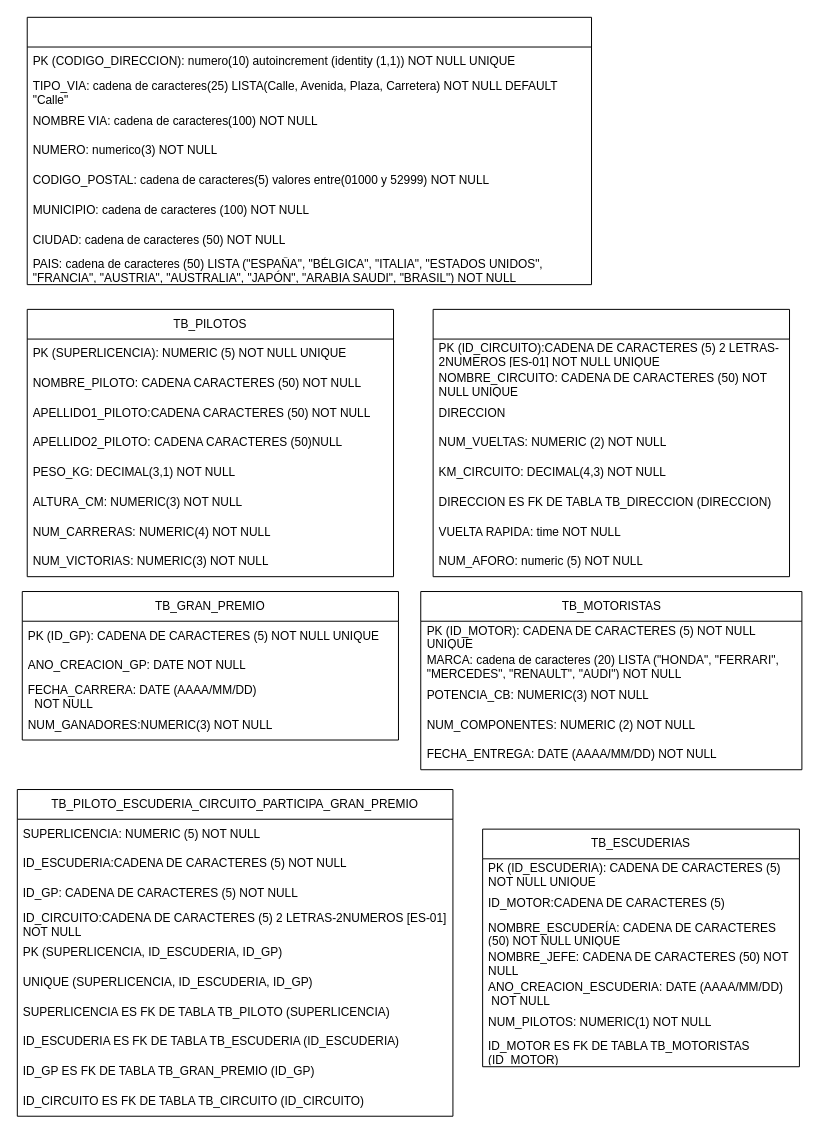
The diagram is 820 pixels wide and 1134 high, and some of its shapes have lost their labels. The shapes that lost their labels are listed below. From the top down, each one's box as (x1, y1, x2, y2) in pixels, then its label:
(26, 16, 592, 285): TB_DIRECCION
(432, 308, 790, 577): TB_CIRCUITOS
